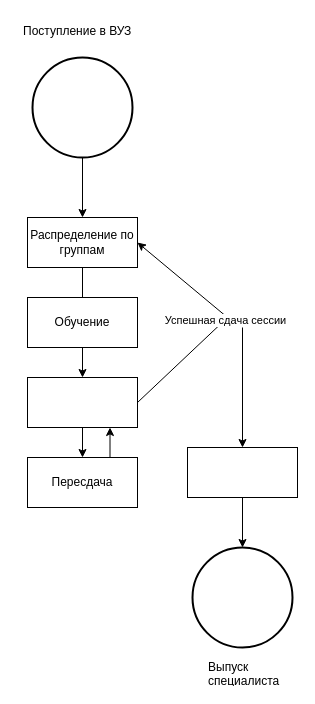
Some shapes in this 315 by 704 pixel diagram are drawn without their labels. The box of each missing label's shape, as (x1, y1, x2, y2) in pixels:
Получение диплома: (186, 446, 298, 498)
Сессия: (26, 376, 138, 428)
